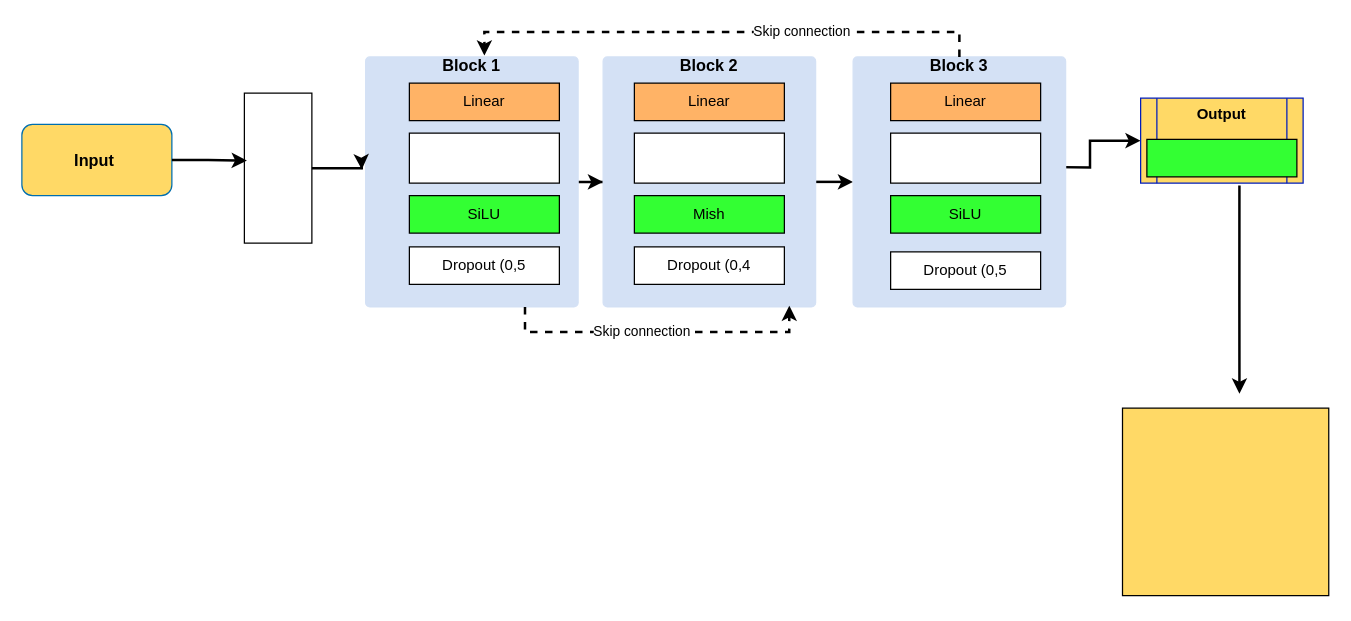
Some shapes in this 1351 by 621 pixel diagram are drawn without their labels. Here are the shapes that lost their labels. From the top down, the centre of each, then its label:
At (x=277, y=167): "Batch Normalization Dropout (0,3".
At (x=483, y=157): "Batch Normalization 512 units".
At (x=708, y=157): "Batch Normalization 256 units".
At (x=965, y=157): "Batch Normalization 128 units".
At (x=1221, y=157): "Softmax activation".
At (x=1225, y=501): "Not bullying Bullying Ethnicity Religion Gender".
